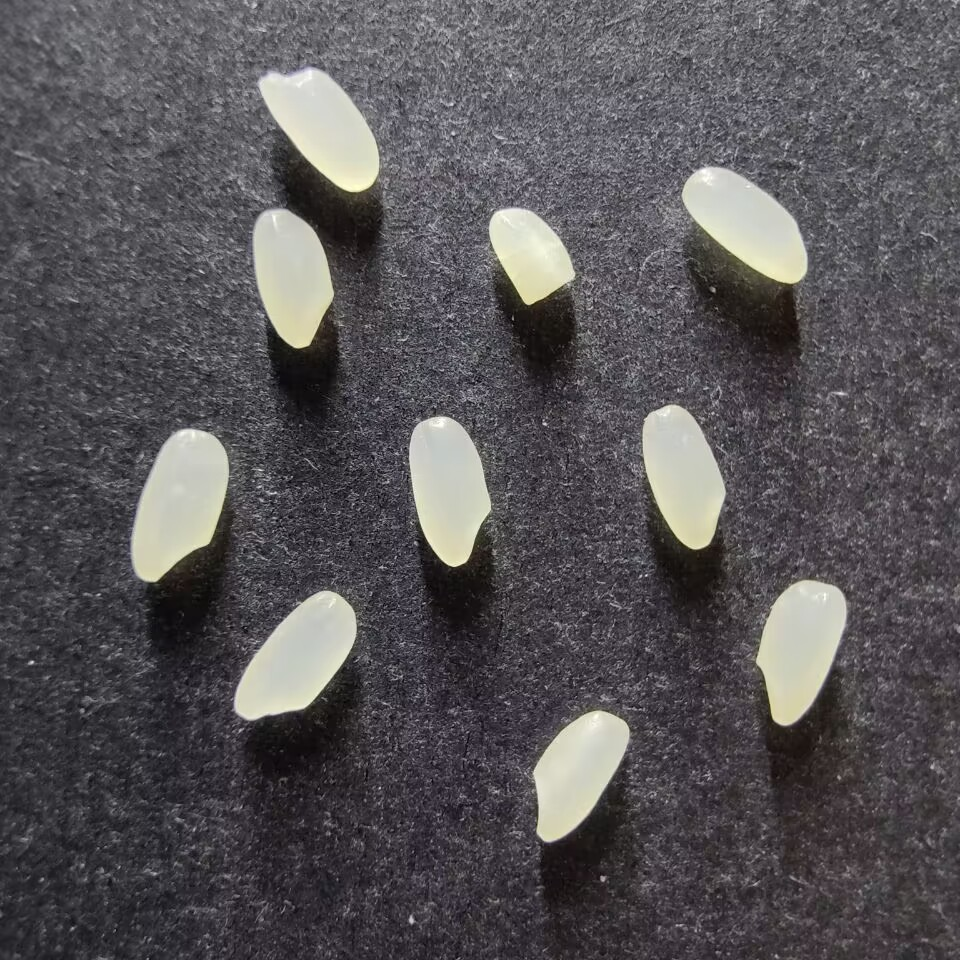broken: (487, 207, 576, 307)
rice: (233, 591, 357, 720), (257, 67, 379, 193), (130, 429, 229, 583), (680, 166, 808, 284), (755, 579, 847, 727), (531, 710, 629, 842), (407, 416, 492, 567), (640, 404, 727, 551), (252, 209, 334, 349)
